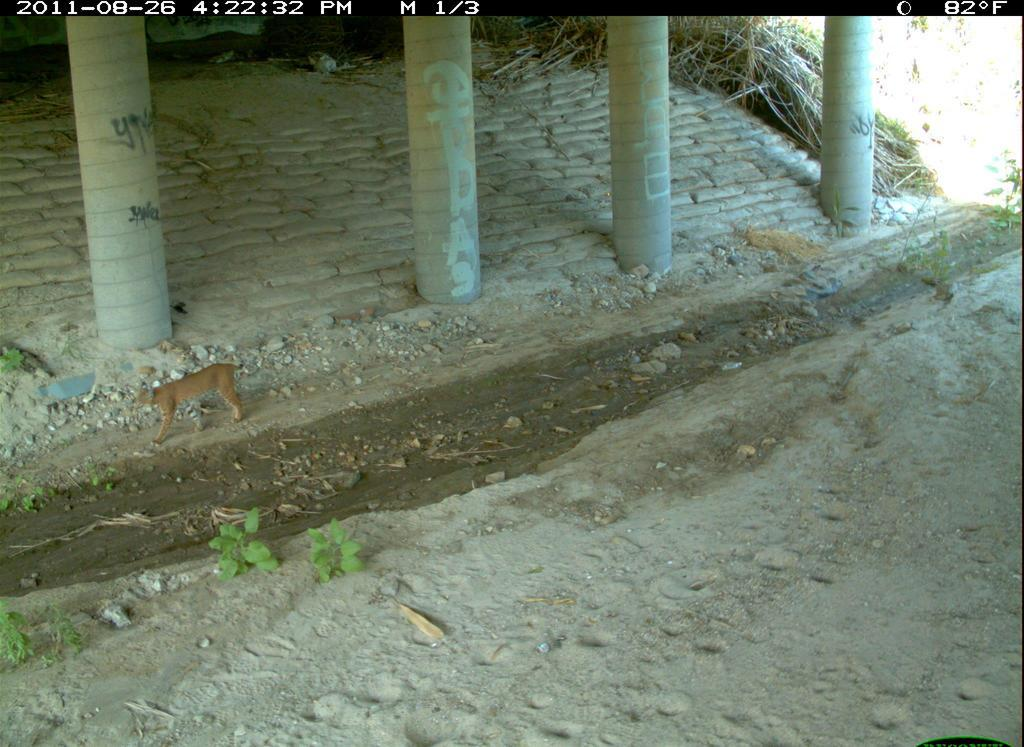bobcat: (261, 711, 504, 747)
